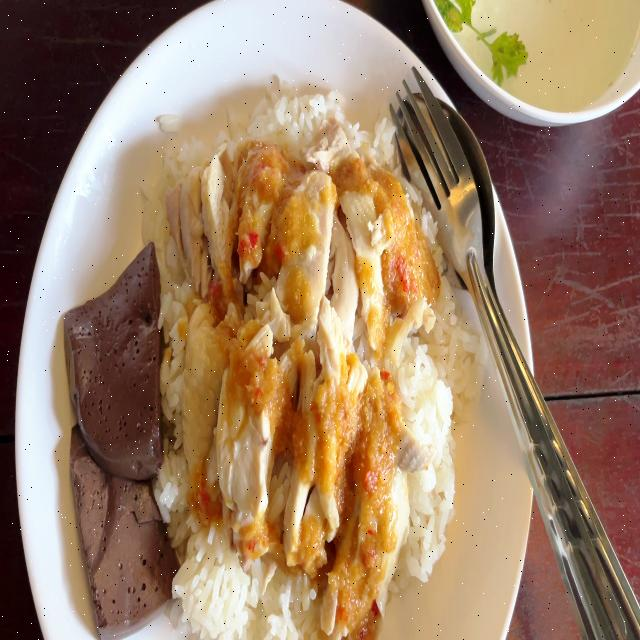boiled_chicken: (166, 152, 410, 551)
boiled_chicken_blood_jelly: (59, 234, 164, 479), (69, 422, 181, 617)
chicken_rice: (47, 98, 480, 640)
